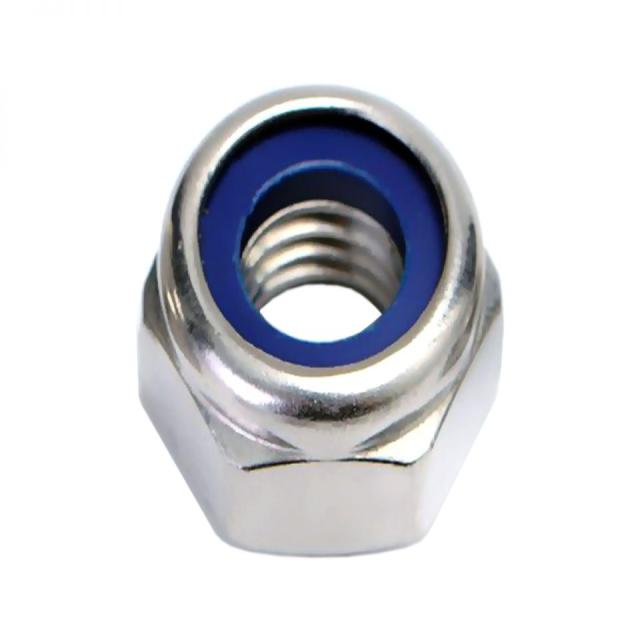Dry Waste: (84, 32, 532, 588)
